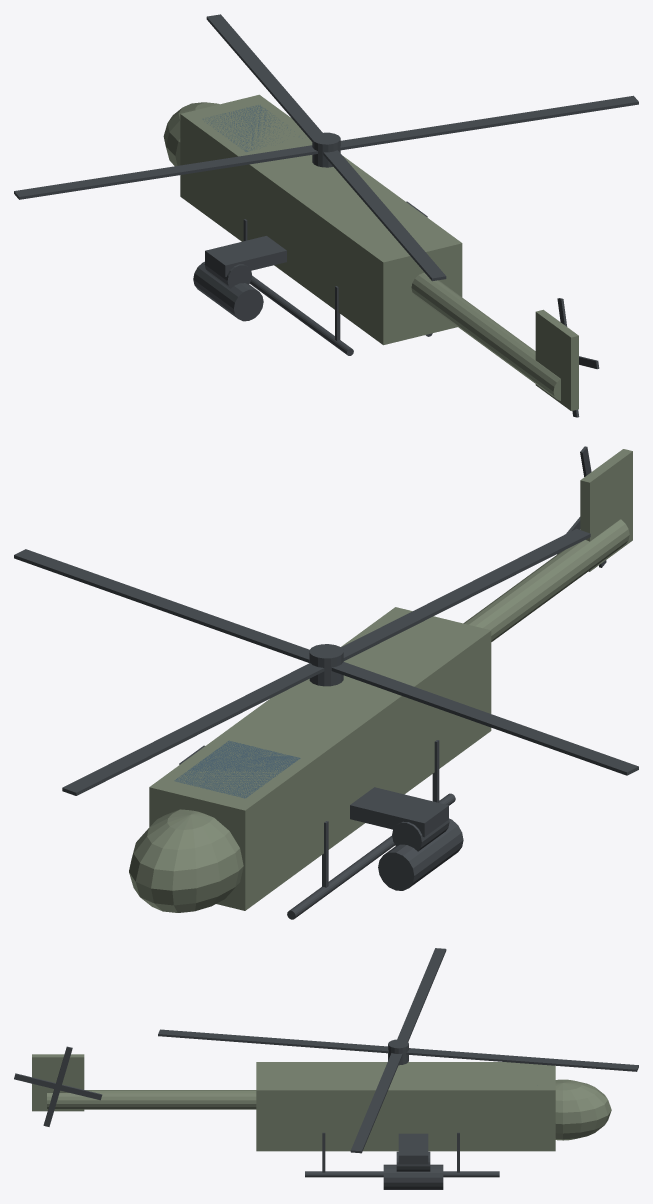
Rendered from helicopter.glb.
3 renders of one model, top to bottom at view 1: azimuth 30°, elevation 25°; view 2: azimuth 150°, elevation 25°; view 3: azimuth 270°, elevation 25°, orthographic. The views are drawn at different scales.
Visible parts, largest first — view 1: fuselage, blade.001, boom, blade, fin, blade.002, stubwing, rocketpod, blade.003, canopy, skid, nose (+2 smaller); view 2: fuselage, nose, blade.001, blade, blade.002, boom, canopy, fin, stubwing, rocketpod, blade.003, skid (+2 smaller); view 3: fuselage, boom, nose, blade, blade.001, fin, blade.002, rocketpod.001, blade.003, stubwing, skid.001, tailblade (+3 smaller).
Boxes of the visible parts, x1,y1,x2,y2 form: fuselage: [180, 94, 462, 345]; blade.001: [14, 95, 638, 199]; boom: [411, 273, 560, 400]; blade: [207, 14, 446, 280]; fin: [535, 309, 578, 410]; blade.002: [206, 15, 444, 280]; stubwing: [205, 201, 427, 276]; rocketpod: [193, 261, 263, 321]; blade.003: [16, 96, 636, 196]; canopy: [202, 105, 302, 151]; skid: [249, 275, 353, 355]; nose: [163, 102, 219, 166]; fuselage: [149, 607, 491, 910]; nose: [129, 809, 243, 912]; blade.001: [14, 549, 638, 775]; blade: [62, 529, 590, 795]; blade.002: [62, 529, 589, 795]; boom: [463, 519, 629, 641]; canopy: [174, 740, 300, 798]; fin: [580, 449, 632, 571]; stubwing: [179, 745, 448, 837]; rocketpod: [378, 818, 463, 890]; blade.003: [16, 550, 638, 771]; skid: [287, 793, 455, 919]; fuselage: [256, 1062, 555, 1151]; boom: [47, 1090, 256, 1109]; nose: [555, 1079, 611, 1140]; blade: [158, 1029, 638, 1071]; blade.001: [350, 948, 446, 1153]; fin: [32, 1054, 84, 1111]; blade.002: [158, 1033, 637, 1069]; rocketpod.001: [383, 1164, 443, 1189]; blade.003: [351, 948, 442, 1150]; stubwing: [398, 1133, 428, 1164]; skid.001: [305, 1171, 499, 1177]; tailblade: [14, 1073, 102, 1100].
Size of the model in its own units: 12.85 by 3.54 by 16.71.
